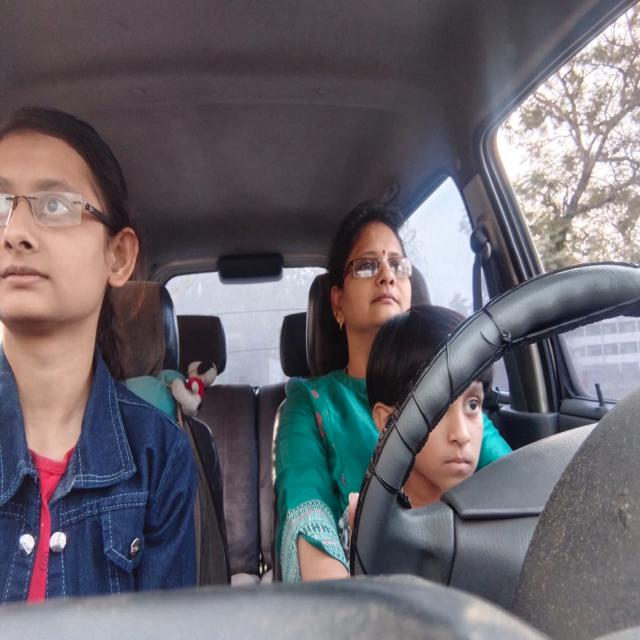child: (369, 310, 495, 493)
person: (0, 97, 144, 358), (323, 187, 415, 338)
